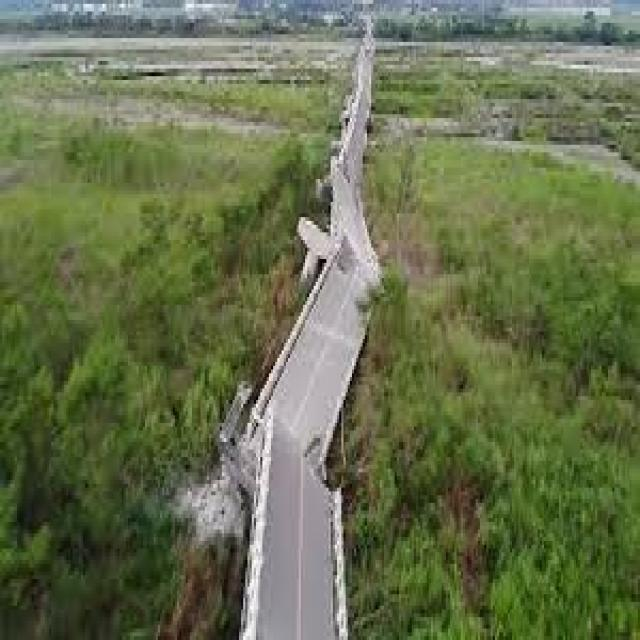bridge collapse: (152, 58, 484, 562)
